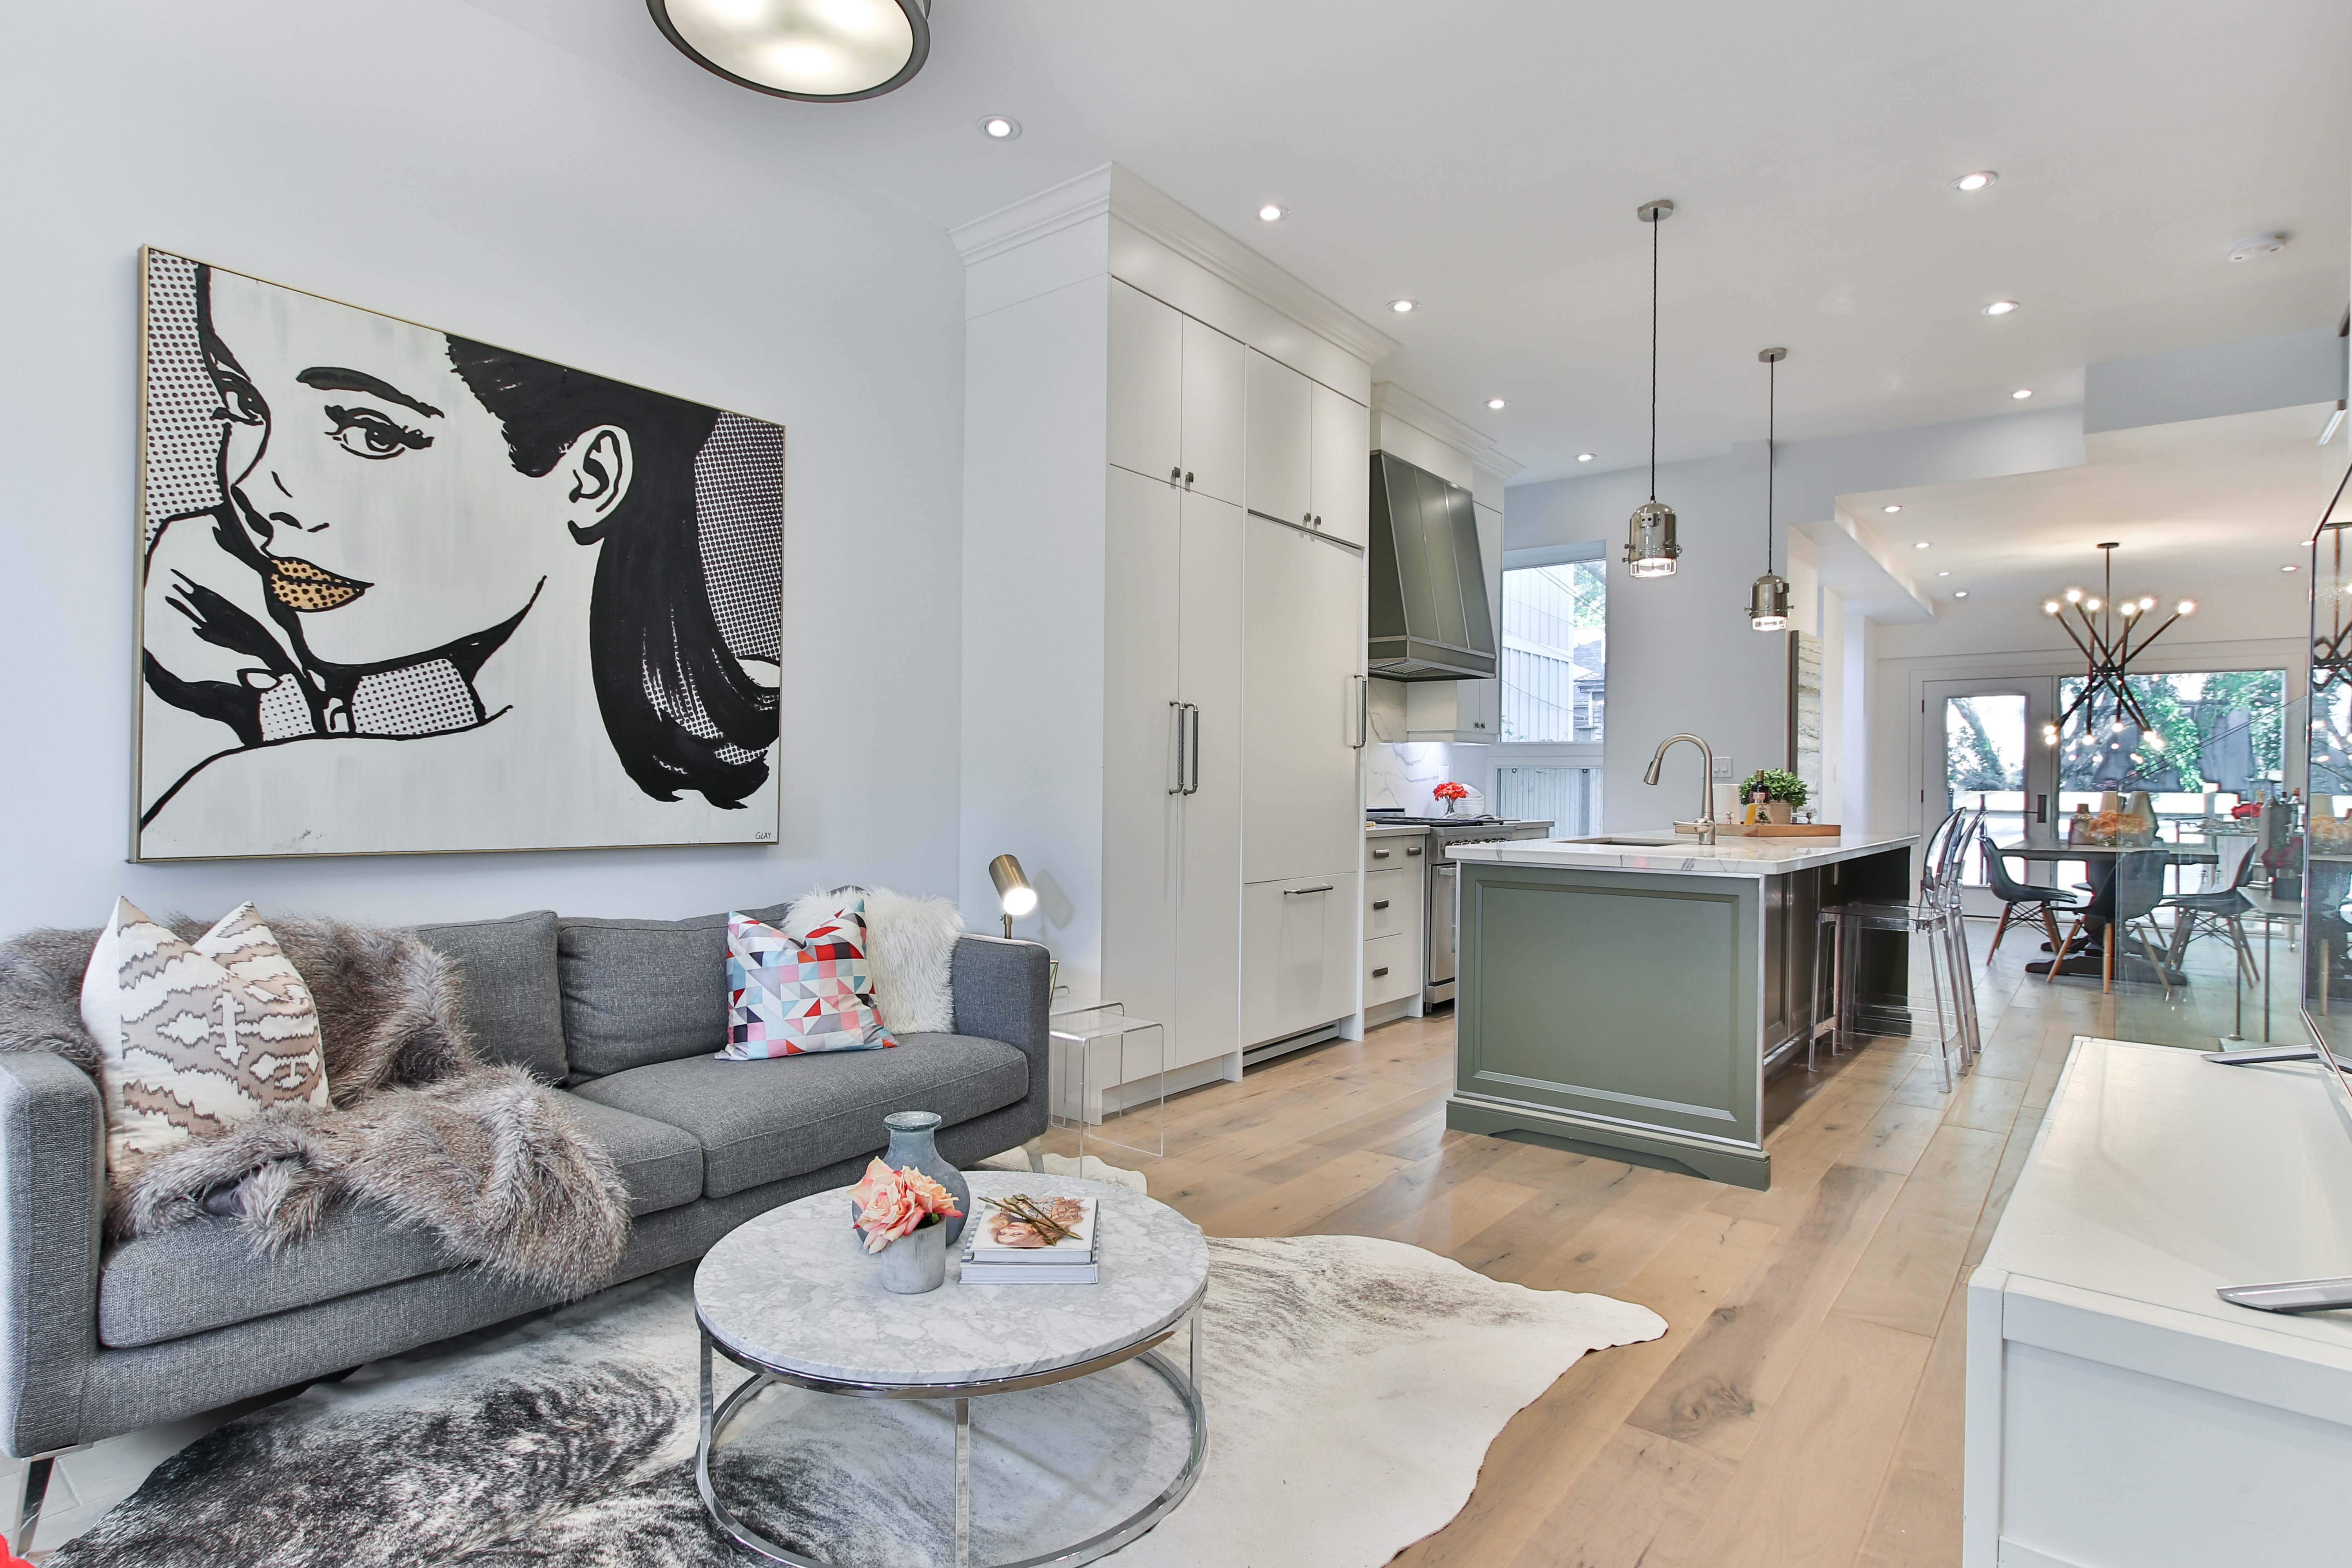Painting: (126, 241, 796, 873)
Sofa: (0, 921, 1034, 1470), (495, 912, 513, 1159)
Table: (702, 1179, 1276, 1563)
